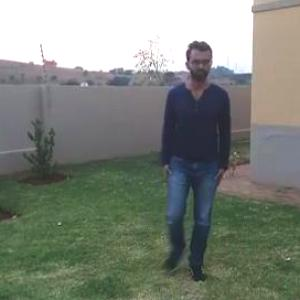follow: (144, 32, 232, 297)
